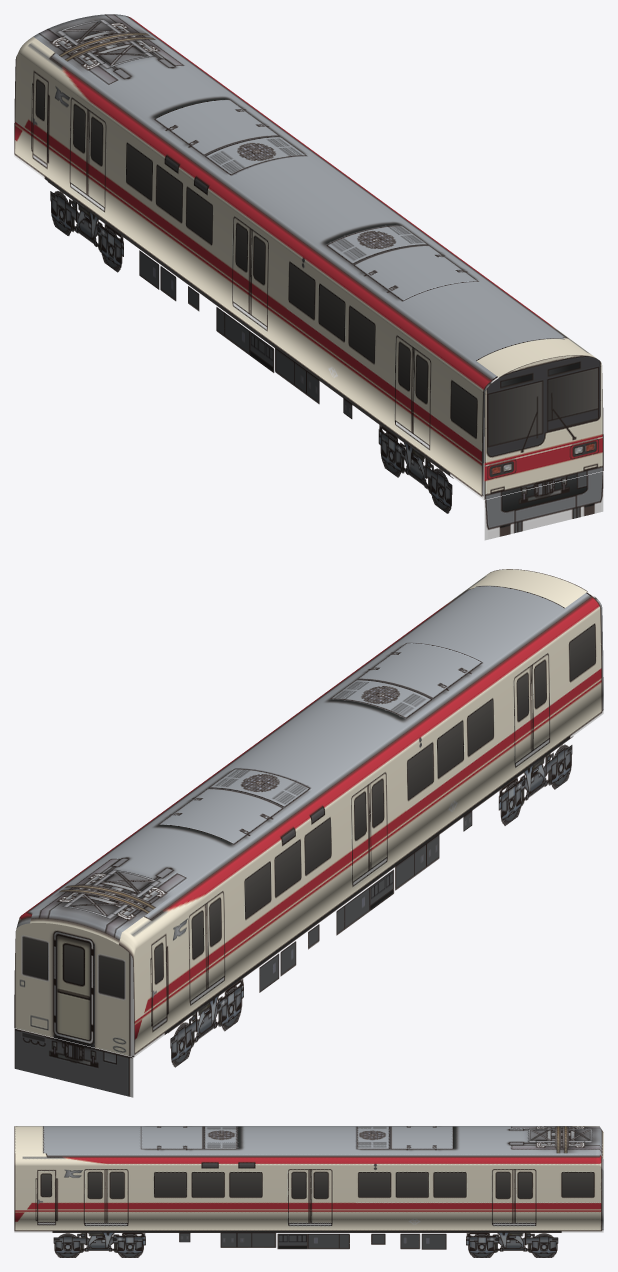
The model's file is car1.glb.
3 views of the same model, one above another, from view 1: azimuth 30°, elevation 25°; view 2: azimuth 150°, elevation 25°; view 3: azimuth 270°, elevation 25° (orthographic). The views are drawn at different scales.
Visible parts, largest first — view 1: kobedentetu-5000; view 2: kobedentetu-5000; view 3: kobedentetu-5000.
Boxes of the visible parts, x1,y1,x2,y2 form: kobedentetu-5000: (14,14,603,540); kobedentetu-5000: (14,569,603,1097); kobedentetu-5000: (14,1126,603,1257).
Bounding box in the file's own units: 2.7 × 3.57 × 18.32.
8 materials, 7 textured.
